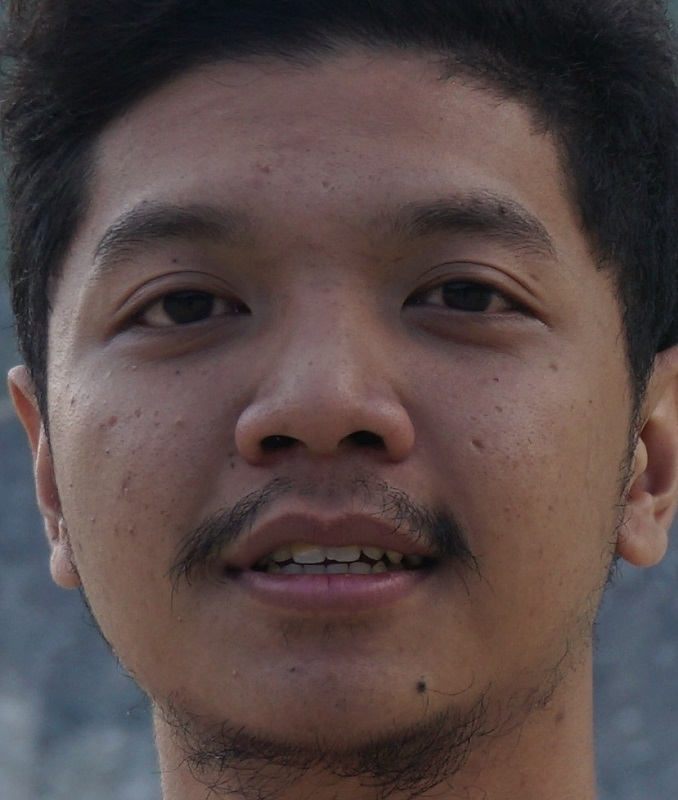bekas: (116, 475, 136, 497), (330, 689, 350, 706), (470, 432, 486, 451), (503, 455, 522, 469), (322, 667, 340, 681), (302, 718, 317, 734), (149, 417, 168, 429), (73, 542, 88, 555), (491, 401, 506, 414)
jerawat: (257, 157, 274, 175), (171, 413, 188, 428), (104, 411, 118, 428), (122, 520, 138, 534), (547, 358, 562, 370), (100, 445, 116, 455), (229, 665, 241, 677), (67, 394, 78, 407), (87, 514, 101, 522)
